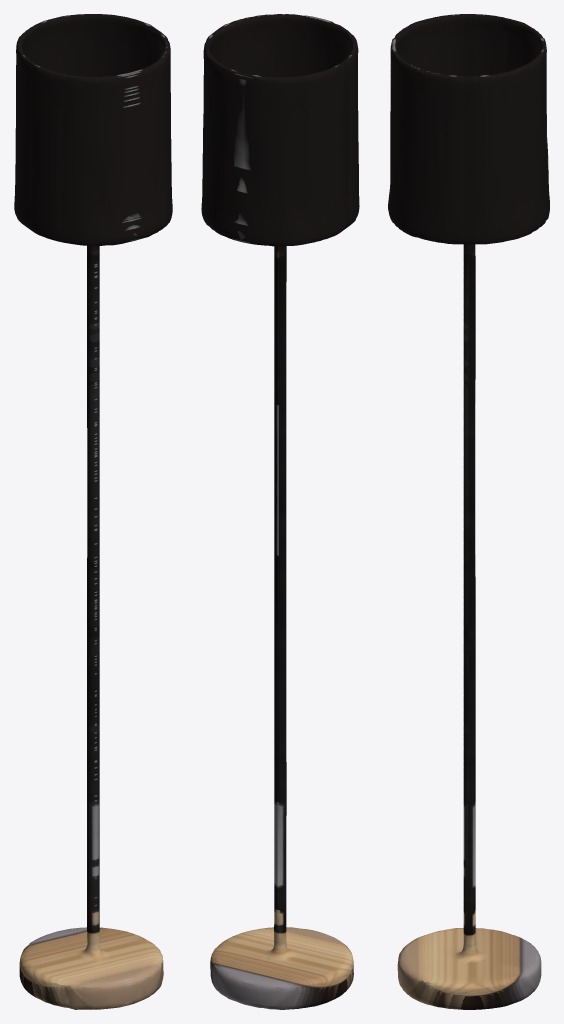
File: floor-lamp.glb
3 views of the same model, side by side, from view 1: azimuth 30°, elevation 25°; view 2: azimuth 150°, elevation 25°; view 3: azimuth 270°, elevation 25° (orthographic).
Visible parts, largest first — view 1: Mesh_0; view 2: Mesh_0; view 3: Mesh_0.
Boxes of the visible parts, bbox=[...] form: Mesh_0: bbox=[14, 14, 172, 1009]; Mesh_0: bbox=[201, 14, 359, 1009]; Mesh_0: bbox=[388, 14, 549, 1009].
Bounding box in the file's own units: 0.2246 × 1.5 × 0.2348.
Materials: 1 (1 with a texture image).
